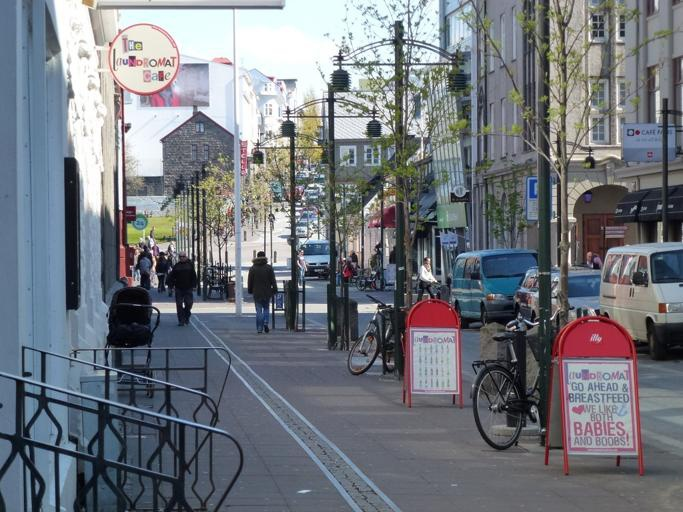non-vehicle: (468, 304, 576, 448), (346, 293, 405, 376), (355, 267, 386, 291)
